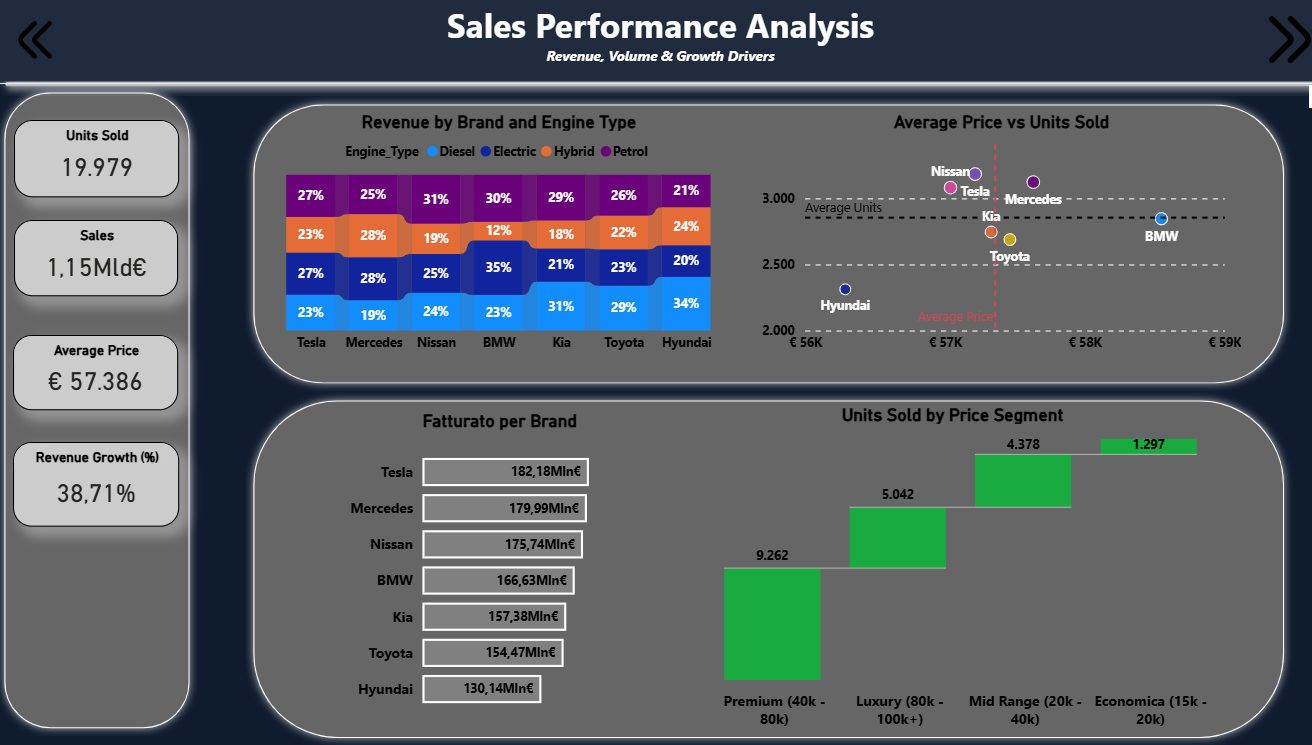

The page's visual inventory and layout, read from the dashboard file:
{"tool":"powerbi","page":{"name":"Sales Analysis","canvas":[1280,720],"ordinal":2},"visuals":[{"type":"shape","box":[0,84.2,193.1,624.3],"z":0},{"type":"shape","box":[238,96,1002,283],"z":1000},{"type":"card","title":"Sales","fields":{"Values":["MISURE.Fatturato"]},"box":[17.6,214.6,157.1,73.2],"z":2000},{"type":"pivotTable","fields":{"Rows":["cars_clean.Brand","cars_clean.Model"],"Values":["MISURE.Fatturato","MISURE.PrezzoMedioVendita","MISURE.QuantitaVendute"]},"box":[580,517,512,203],"z":3000},{"type":"hundredPercentStackedColumnChart","title":"Revenue by Brand and Engine Type","fields":{"Category":["cars_clean.Brand"],"Series":["cars_clean.Engine_Type"],"Y":["MISURE.Fatturato"]},"box":[249,110,465,240],"z":4000},{"type":"shape","box":[0,0,1280,84.6],"z":5000},{"type":"shape","box":[0,72.5,1280,23.2],"z":6000},{"type":"textbox","box":[0,0,1280,84.1],"z":7000},{"type":"image","box":[0,23.7,74.4,35.6],"z":8000},{"type":"card","title":"Average Price","fields":{"Values":["MISURE.PrezzoMedioVendita"]},"box":[16.4,324.1,157.9,71.8],"z":9000},{"type":"image","box":[1207.8,19.4,63.6,45.3],"z":10000},{"type":"shape","box":[238,379,1002,339],"z":11000},{"type":"waterfallChart","title":"Units Sold by Price Segment","fields":{"Category":["cars_clean.Fascia Prezzo"],"Y":["MISURE.QuantitaVendute"]},"box":[625,390,581,317],"z":12000},{"type":"card","title":"Units Sold","fields":{"Values":["MISURE.QuantitaVendute"]},"box":[17.4,119,157.9,73.8],"z":13000},{"type":"scatterChart","title":"Average Price vs Units Sold","fields":{"X":["MISURE.PrezzoMedioVendita"],"Y":["MISURE.QuantitaVendute"],"Size":["MISURE.Fatturato"],"Series":["cars_clean.Brand"]},"box":[728,110,468,240],"z":14000},{"type":"barChart","fields":{"Y":["MISURE.Fatturato"],"Category":["cars_clean.Brand"]},"box":[332,396,300,300],"z":15000},{"type":"card","title":"Revenue Growth (%)","fields":{"Values":["MISURE.Crescita % Fatturato"]},"box":[16.4,426.7,159,81],"z":16000}]}

Visuals, with their boxes in screenshot pixels (x1, y1, x2, y2), scaled from the page's 1280x720 canvas onto the 1312x745 screenshot:
shape: detection(0, 87, 198, 733)
shape: detection(244, 99, 1271, 392)
"Sales" card: detection(18, 222, 179, 298)
pivotTable - cars_clean.Brand x cars_clean.Model: detection(594, 535, 1119, 744)
"Revenue by Brand and Engine Type" hundredPercentStackedColumnChart: detection(255, 114, 732, 362)
shape: detection(0, 0, 1311, 88)
shape: detection(0, 75, 1311, 99)
textbox: detection(0, 0, 1311, 87)
image: detection(0, 25, 76, 61)
"Average Price" card: detection(17, 335, 179, 410)
image: detection(1238, 20, 1303, 67)
shape: detection(244, 392, 1271, 743)
"Units Sold by Price Segment" waterfallChart: detection(641, 404, 1236, 732)
"Units Sold" card: detection(18, 123, 180, 199)
"Average Price vs Units Sold" scatterChart: detection(746, 114, 1226, 362)
barChart - MISURE.Fatturato x cars_clean.Brand: detection(340, 410, 648, 720)
"Revenue Growth (%)" card: detection(17, 442, 180, 525)
